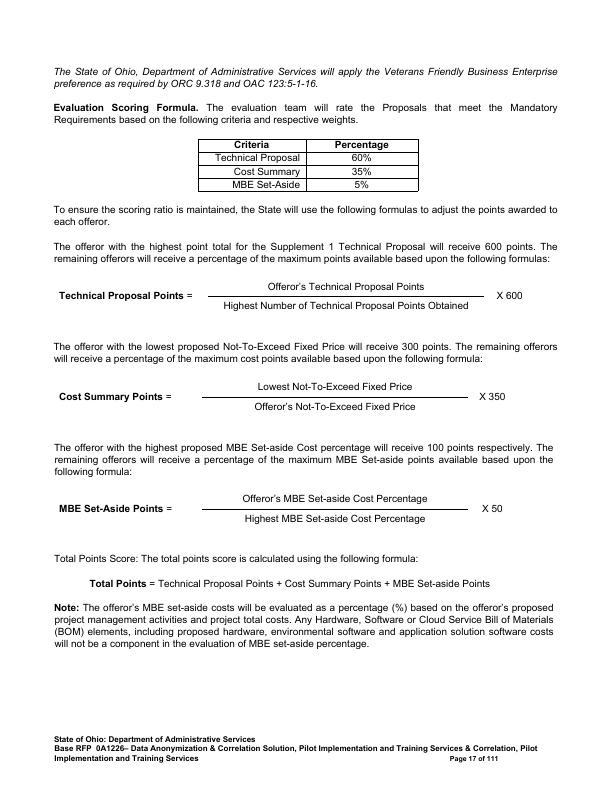table: (195, 136, 426, 195)
text: (51, 548, 563, 661), (50, 436, 559, 530), (47, 339, 561, 419), (50, 238, 567, 316), (47, 728, 544, 771), (49, 60, 564, 91), (45, 98, 562, 127), (50, 201, 563, 228)
